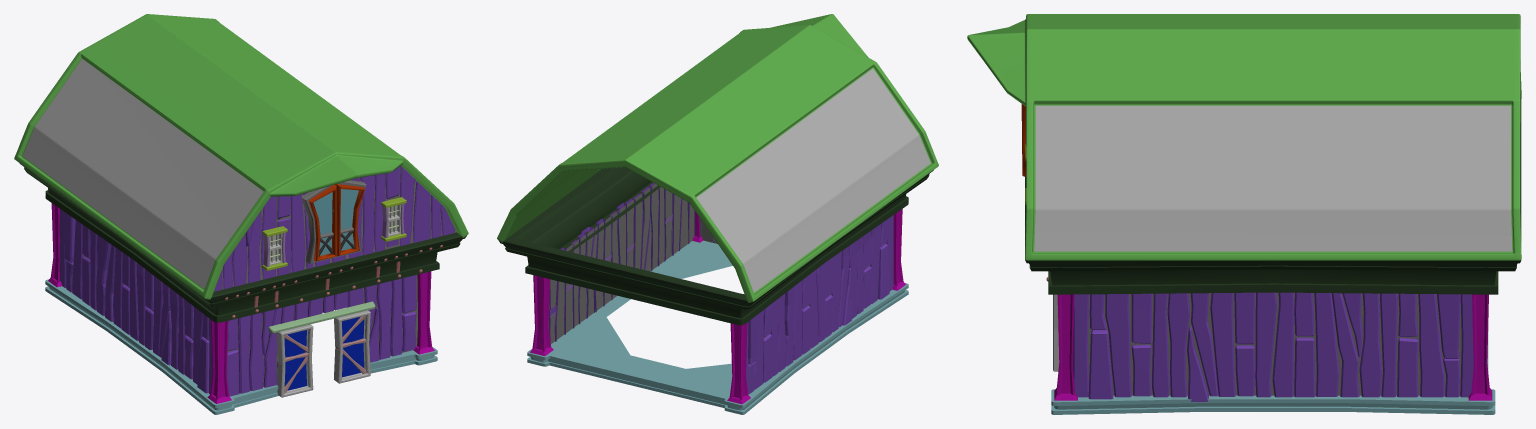
Rendered from Barn 1.fbx.
The picture shows the model from 3 angles, left to right: view 1: azimuth 30°, elevation 25°; view 2: azimuth 150°, elevation 25°; view 3: azimuth 270°, elevation 25°; orthographic projection. The views are drawn at different scales.
Parts seen in each view (by area): view 1: pSphere7; view 2: pSphere7; view 3: pSphere7.
Boxes of the visible parts, x1,y1,x2,y2 form: pSphere7: (14, 14, 468, 414); pSphere7: (497, 14, 938, 414); pSphere7: (967, 14, 1521, 414).
Bounding box in the file's own units: 889 × 785 × 1242.
